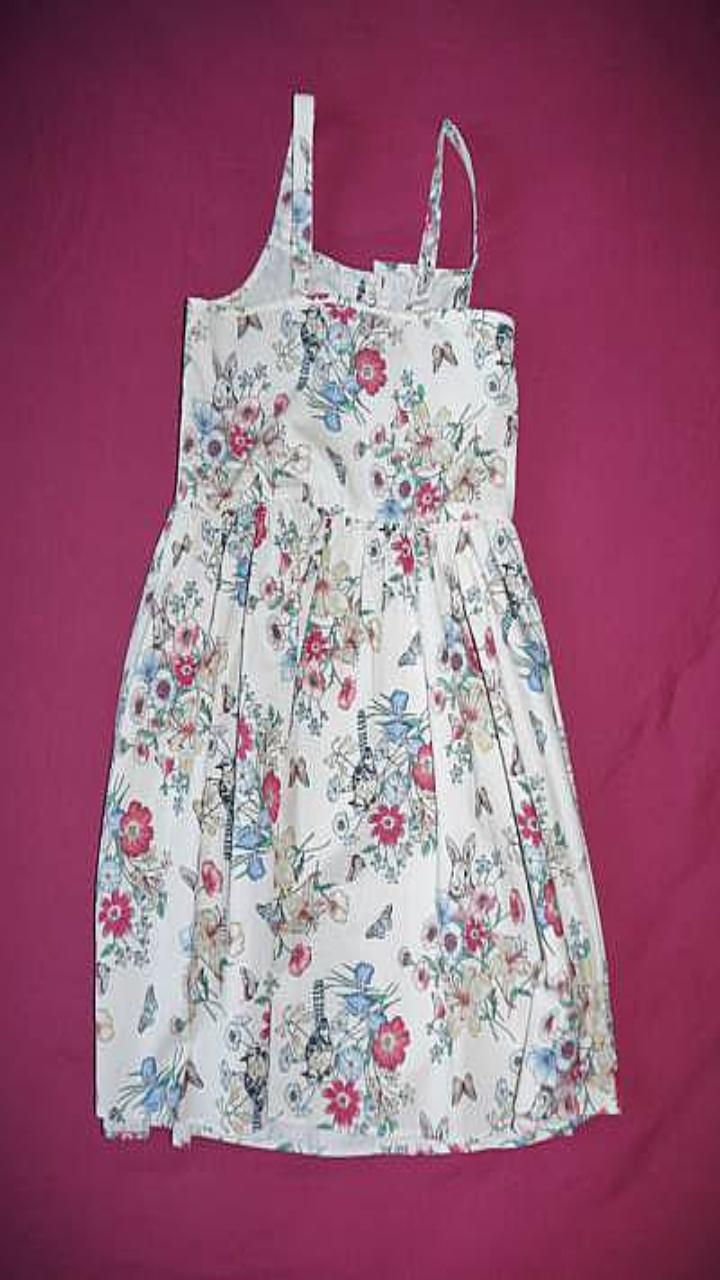Dresses: (95, 93, 619, 1155)
